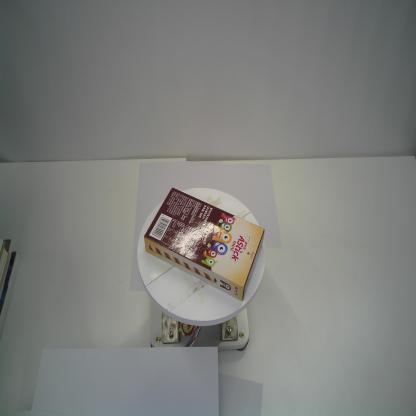Dessert: (143, 185, 265, 303)
